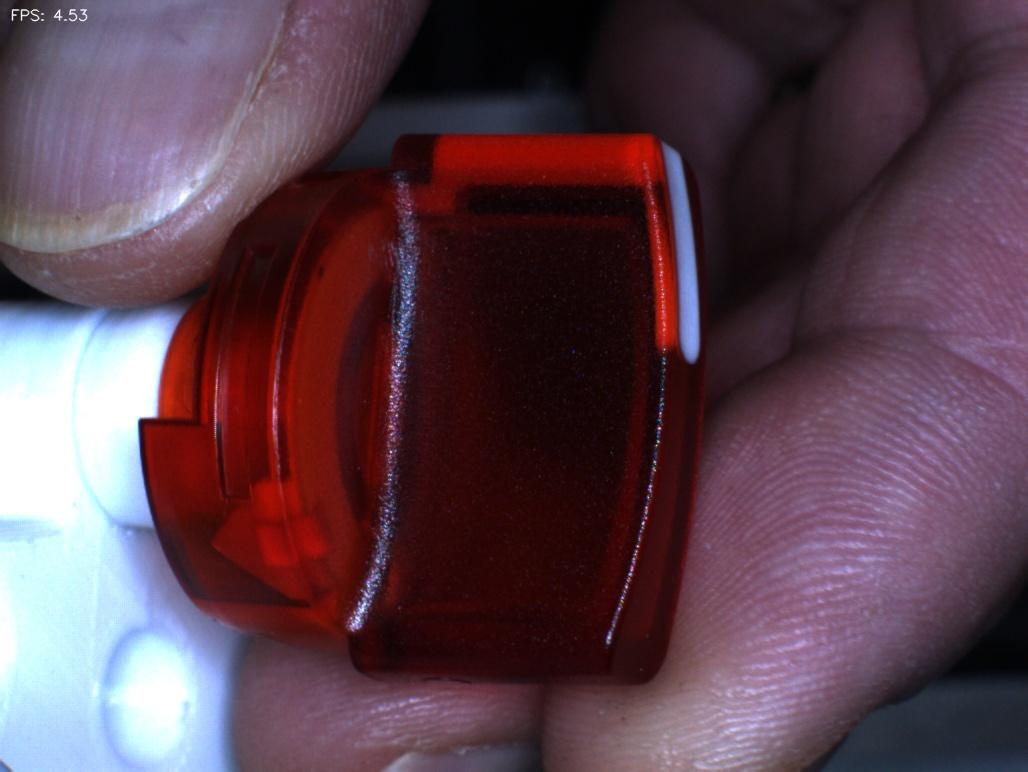Givrage: (370, 217, 438, 354)
